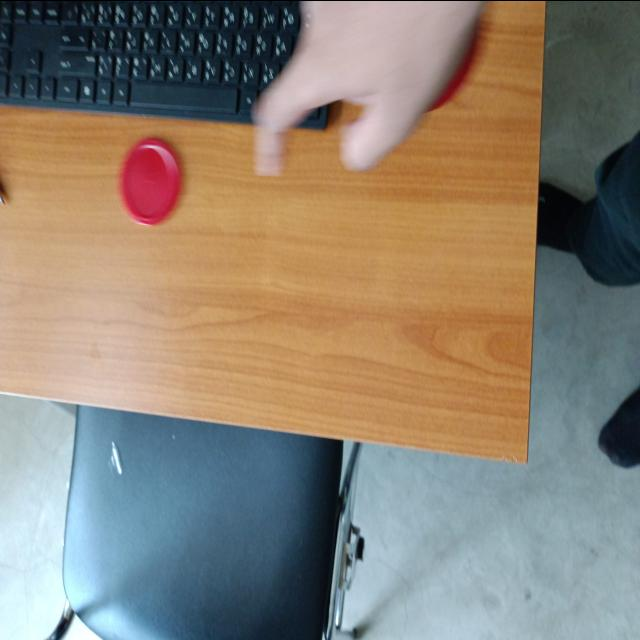chip: (116, 132, 186, 230)
